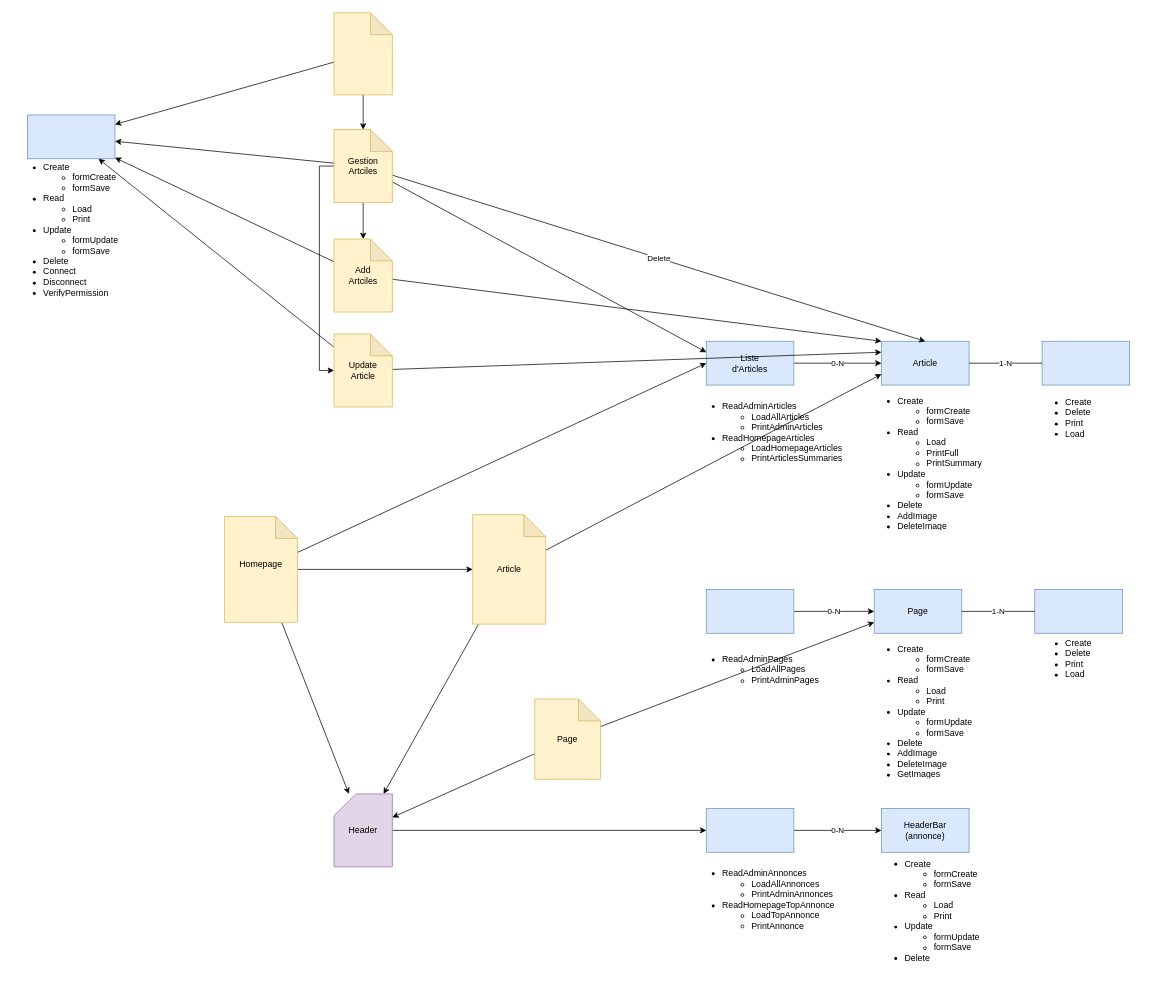
Some shapes in this 1164 by 996 pixel diagram are drawn without their labels. Each missing label, with the box of its shape:
Admin: (333, 12, 392, 95)
ArticleImage: (1041, 341, 1130, 385)
Liste d'Annonces: (706, 808, 794, 852)
Liste de Pages: (706, 589, 794, 633)
PageImage: (1034, 589, 1122, 633)
User: (27, 114, 115, 159)
